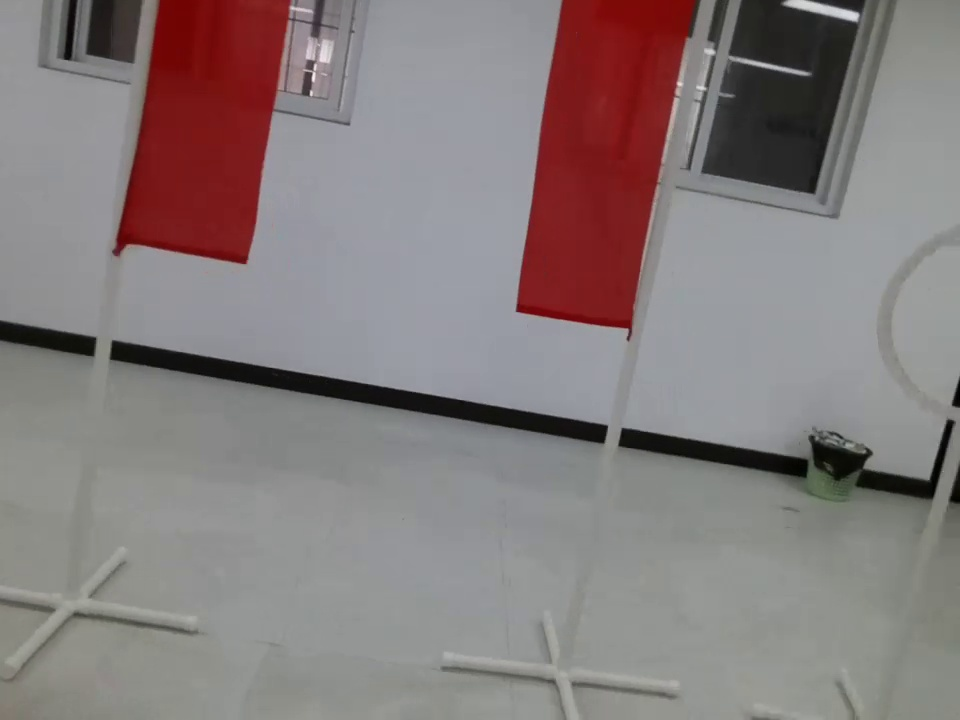qi: (513, 1, 720, 345), (105, 1, 307, 268)
